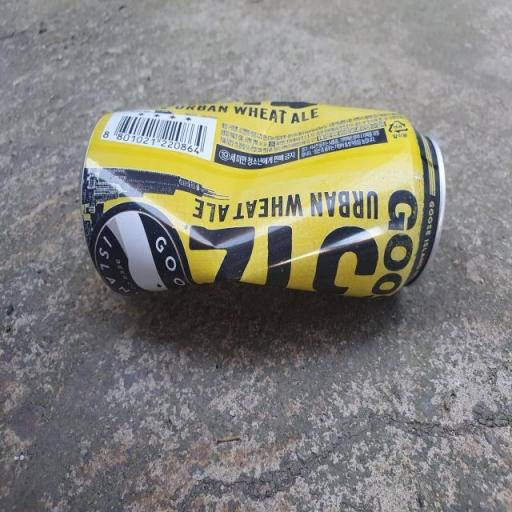metal: (68, 94, 458, 321)
